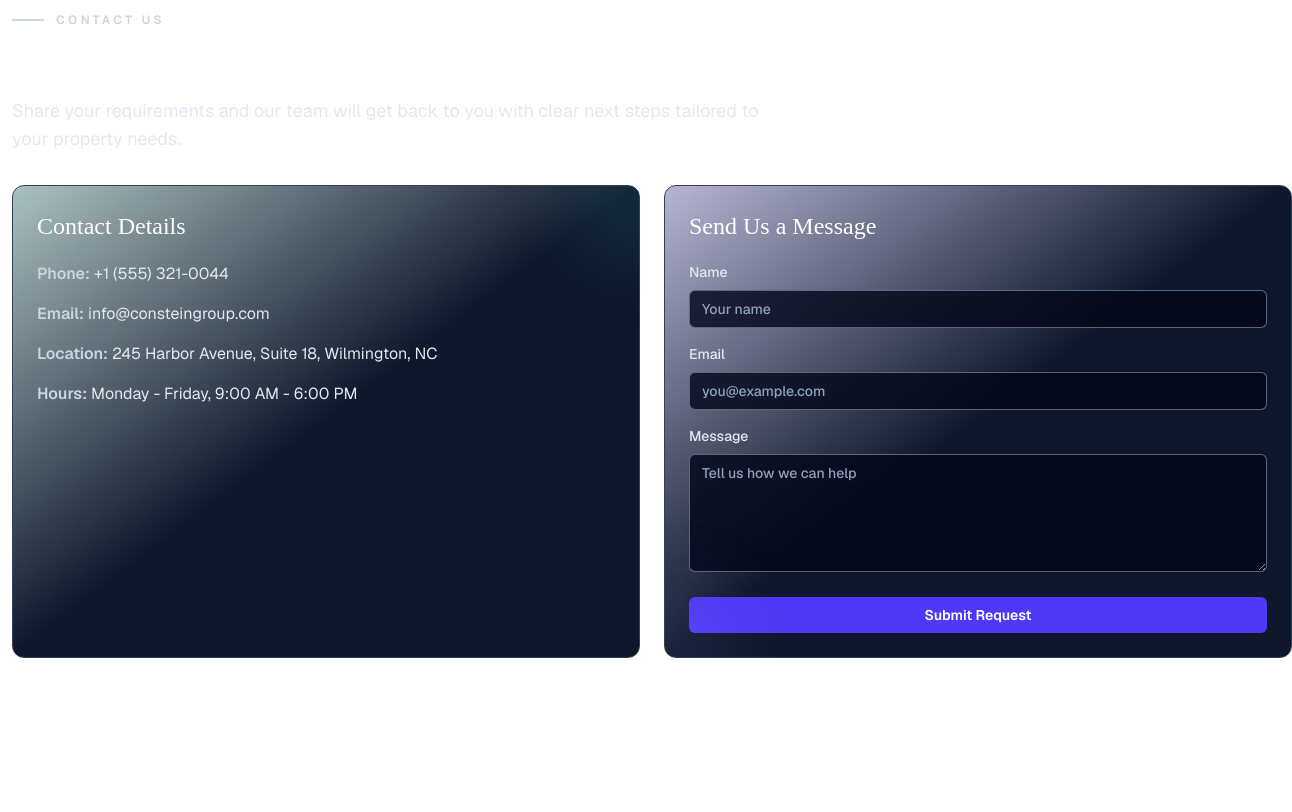
Scenario: ContactSection › shows API error message on failed submit
The width and height of the screenshot is (1292, 812).
Type "Jordan Lee" into the field with placeholder "Your name" at point(978, 309), box [689,290,1267,328]
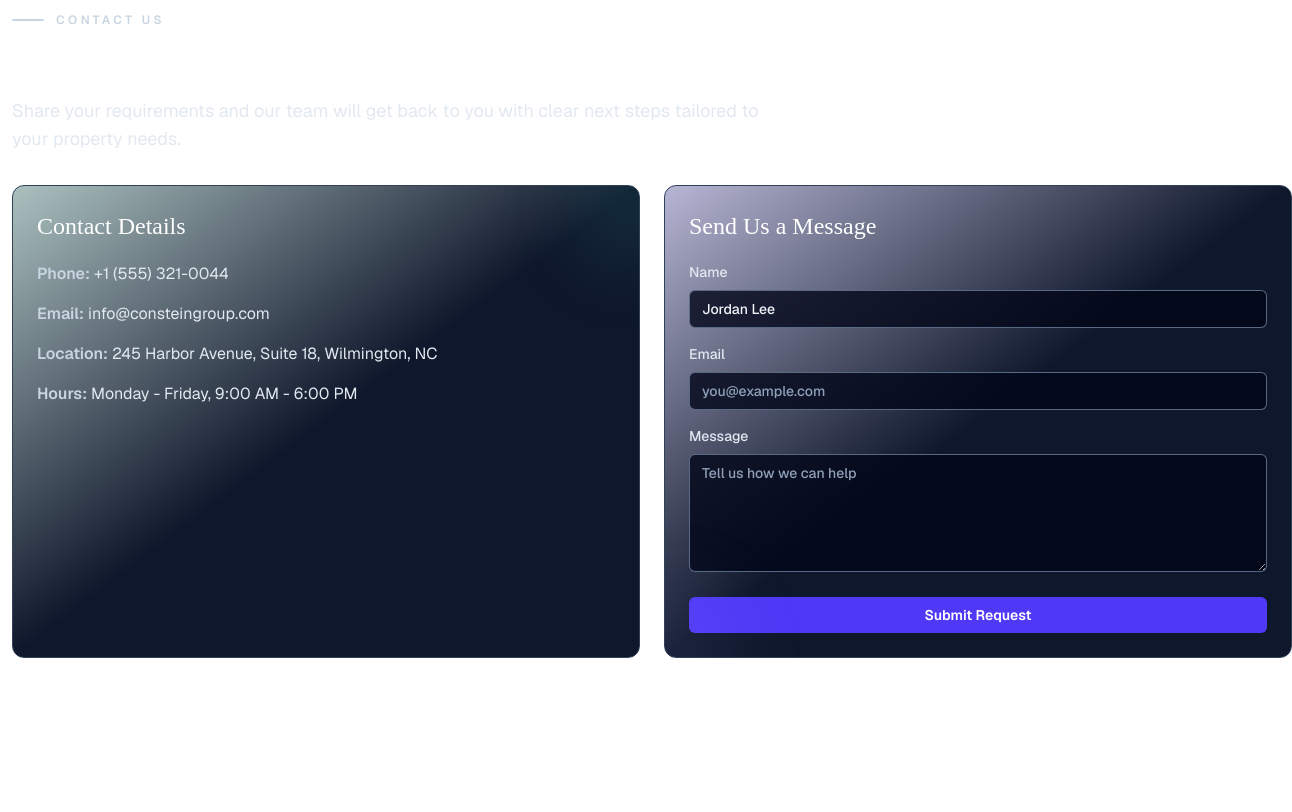
Type "jordan@example.com" into the field with placeholder "you@example.com" at point(978, 391), box [689,372,1267,410]
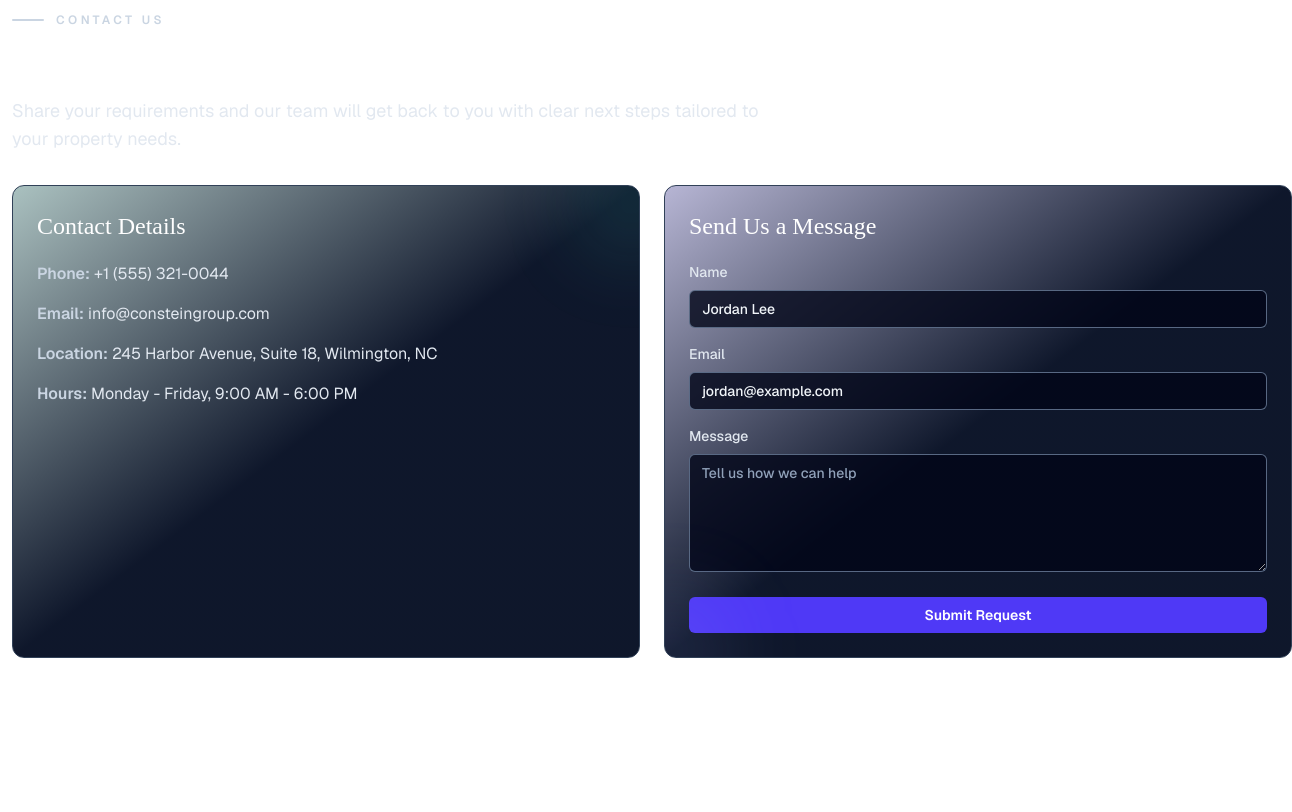
Type "Please contact me for consulting." into the text box with placeholder "Tell us how we can help" at point(978, 513), box [689,454,1267,572]
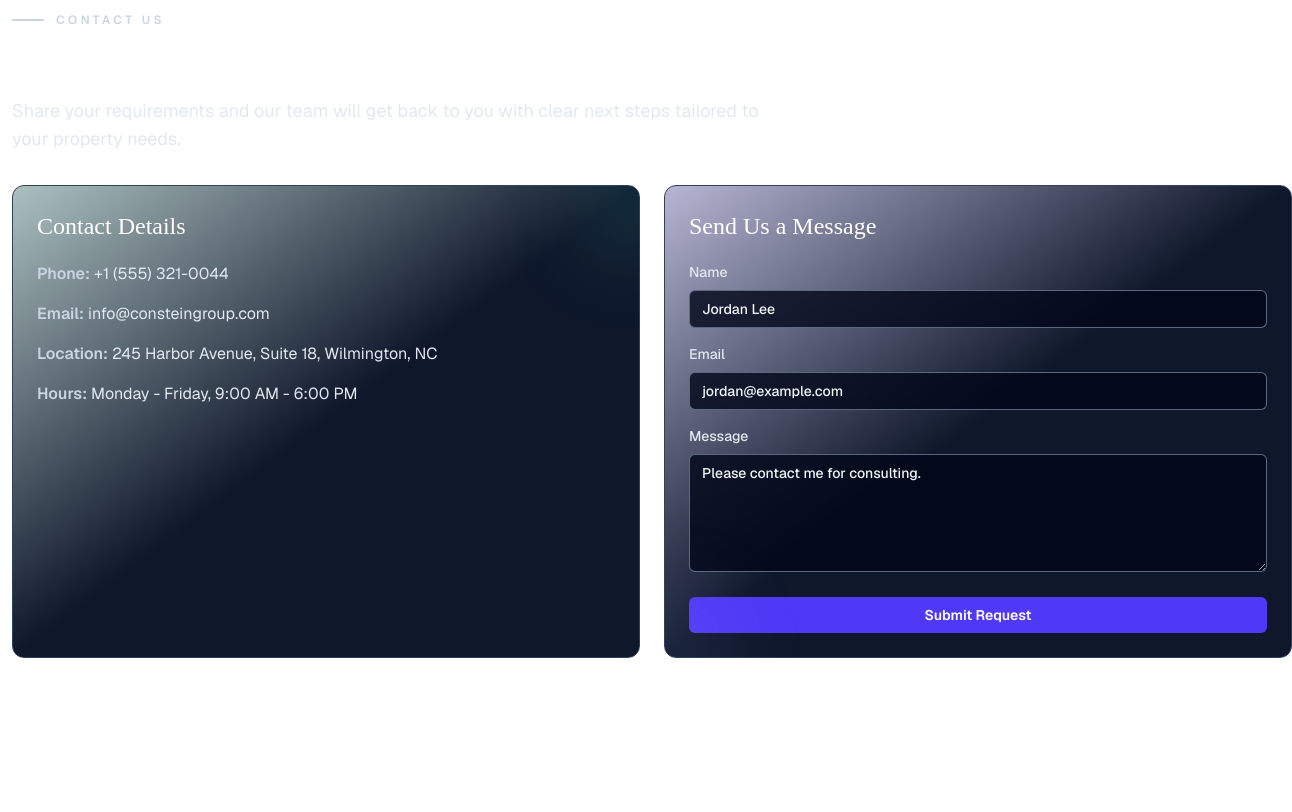
Click the button "Submit Request" at point(978, 615), box [689,597,1267,633]
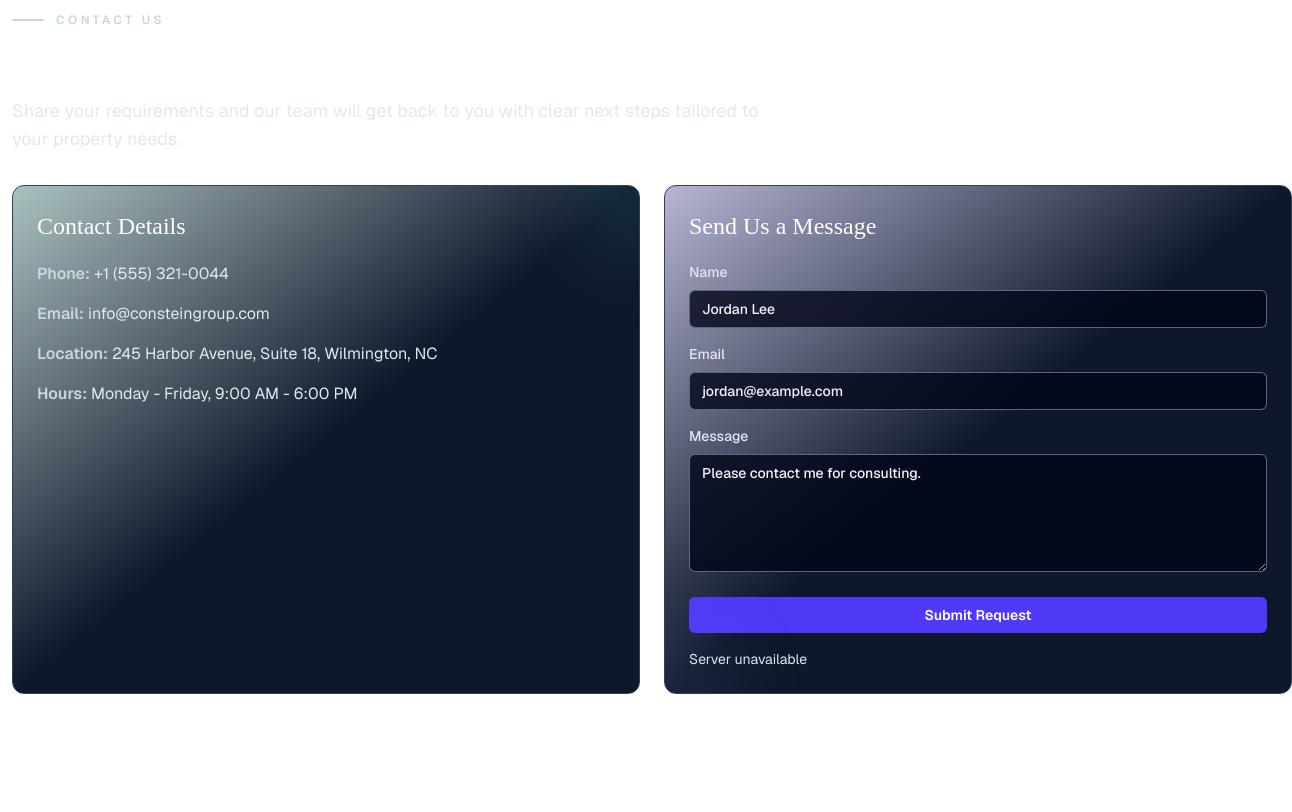
expect the text "Server unavailable" is shown: met, box [689,650,807,668]
